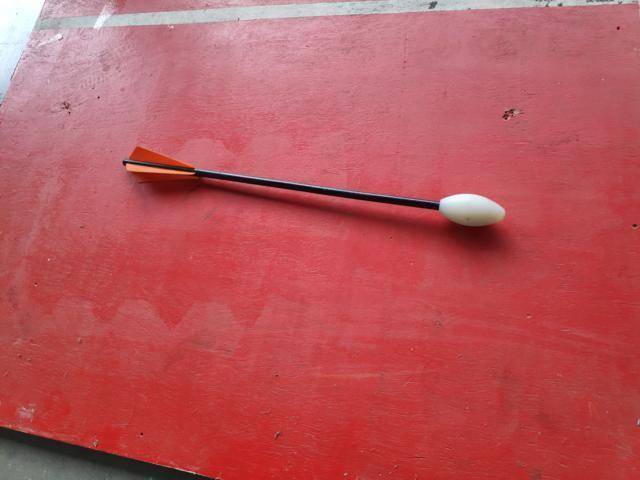Head: (435, 191, 507, 228)
Tail: (120, 140, 200, 186)
